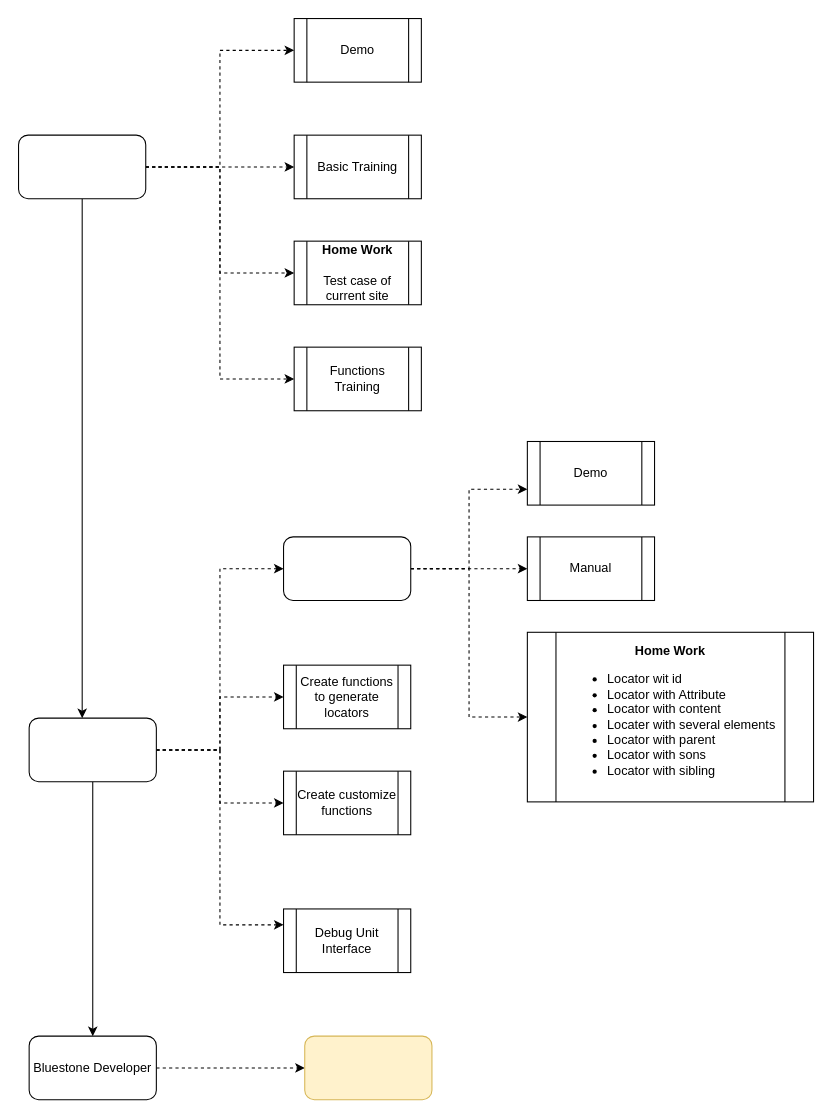
This 832x1118 diagram has some shape labels left out. Each missing label, with the centre of its shape:
"Bluestone User" belongs at point 81,166.
"Blustone Expert" belongs at point 92,749.
"Generate Locators" belongs at point 346,568.
"PENDING" belongs at point 368,1067.
